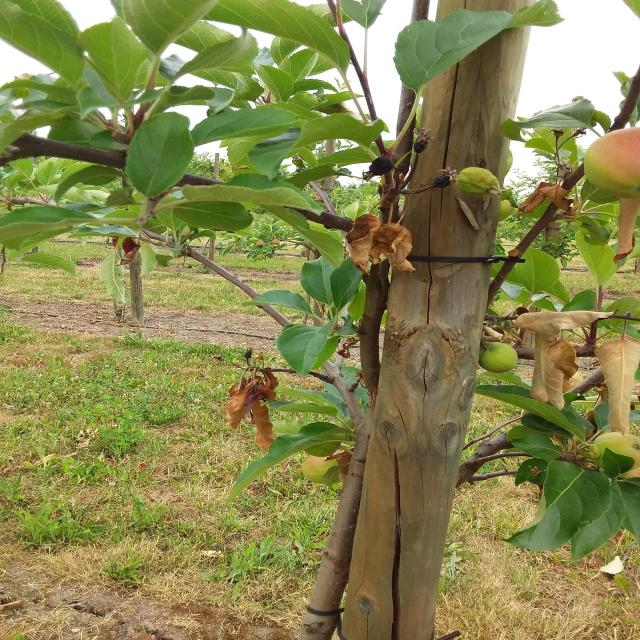-FireBlight-: (222, 357, 274, 452), (348, 205, 409, 272), (522, 181, 572, 221)
